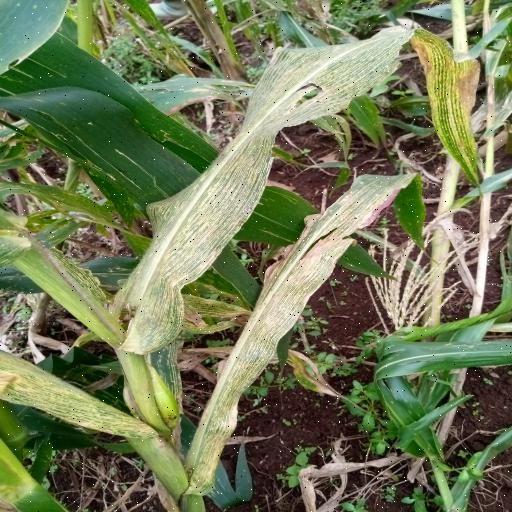Corn_Streak: (130, 36, 478, 362), (188, 176, 432, 487)
